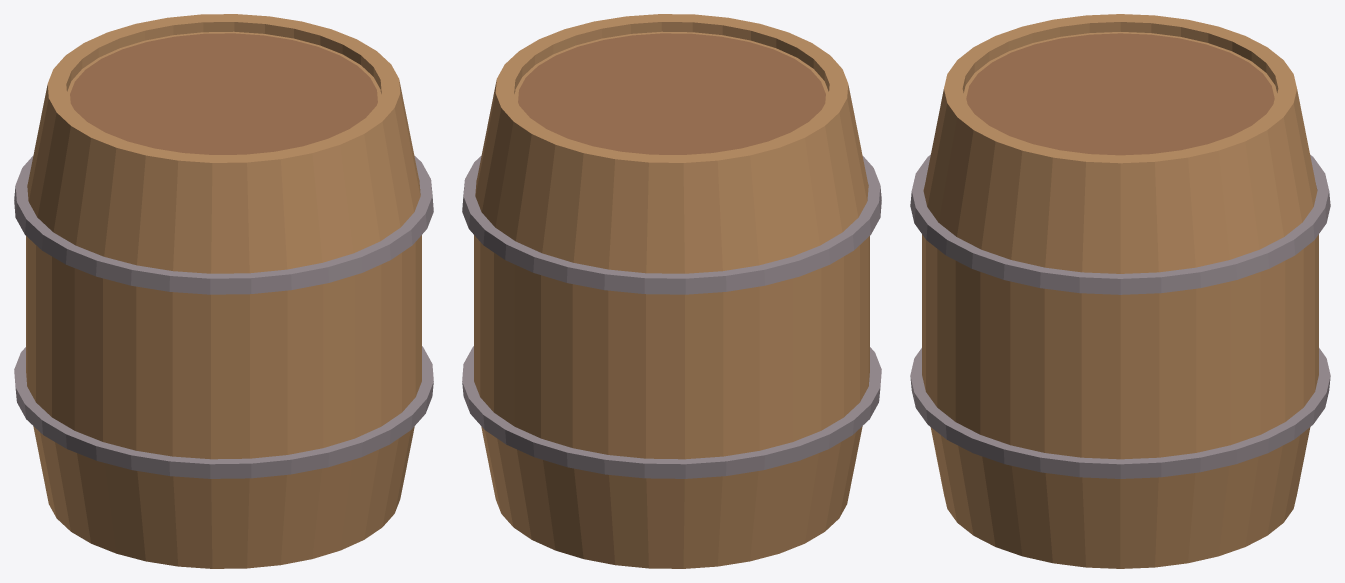
File: Beczka.fbx
3 views of the same model, side by side, from view 1: azimuth 30°, elevation 25°; view 2: azimuth 150°, elevation 25°; view 3: azimuth 270°, elevation 25° (orthographic).
Visible parts, largest first — view 1: Cylinder; view 2: Cylinder; view 3: Cylinder.
Boxes of the visible parts, x1=… form: Cylinder: x1=14, y1=14, x2=433, y2=568; Cylinder: x1=462, y1=14, x2=881, y2=568; Cylinder: x1=910, y1=14, x2=1330, y2=568.
Size of the model in its own units: 212 by 226 by 212.
